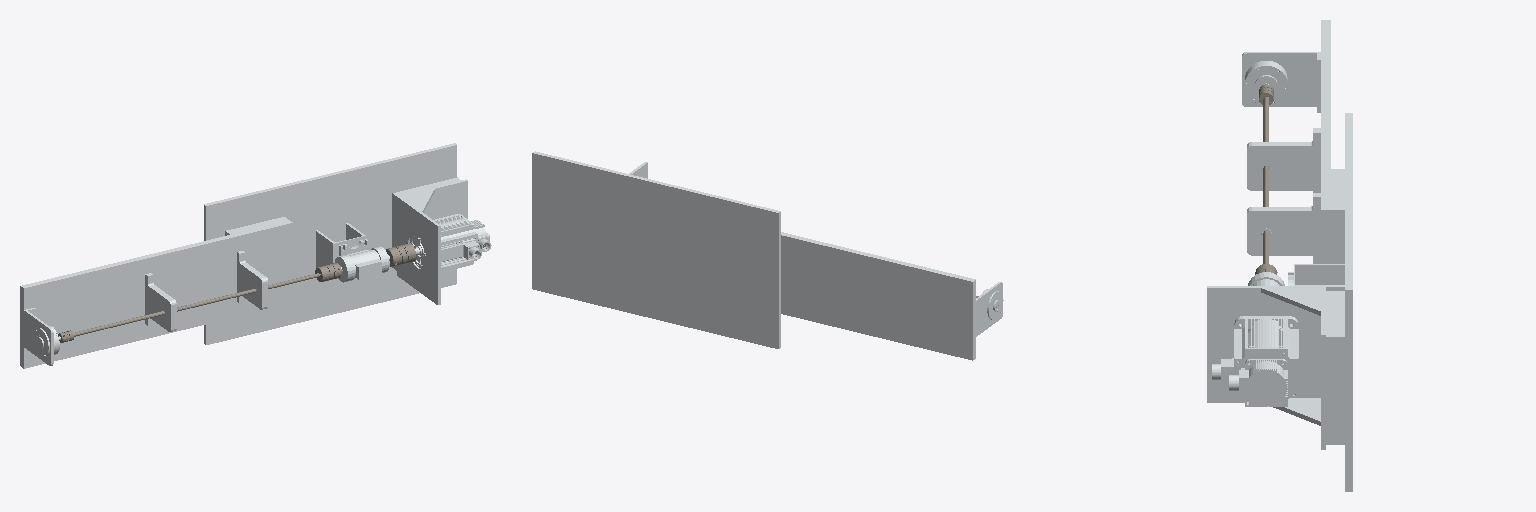
robot.urdf — ship_shaft:
<robot
  name="ship_shaft">
  <gazebo>
    <static>true</static>
  </gazebo>
  <link
    name="shaft_base">
    <inertial>
      <origin
        xyz="-0.0482124024715684 -2.11997733364886E-08 0.0437837615145441"
        rpy="0 0 0" />
      <mass
        value="107.388668742931" />
      <inertia
        ixx="1.22100761859766"
        ixy="2.35408130593514E-08"
        ixz="-0.213069196033121"
        iyy="6.93483368955367"
        iyz="9.15237828430063E-08"
        izz="7.80996151767761" />
    </inertial>
    <visual>
      <origin
        xyz="0 0 0"
        rpy="0 0 0" />
      <geometry>
        <mesh
          filename="package://inspection_sim/meshes/base_link.STL" />
      </geometry>
      <material
        name="">
        <color
          rgba="0.898039215686275 0.917647058823529 0.929411764705882 1" />
      </material>
    </visual>
    <collision>
      <origin
        xyz="0 0 0"
        rpy="0 0 0" />
      <geometry>
        <mesh
          filename="package://inspection_sim/meshes/base_link.STL" />
      </geometry>
    </collision>
  </link>
  <link
    name="Empty_Link">
    <inertial>
      <origin
        xyz="-1.58611210162585E-05 -2.07330212466383E-05 0.308504147181496"
        rpy="0 0 0" />
      <mass
        value="1.48084133626181" />
      <inertia
        ixx="0.0481596319576275"
        ixy="-1.10330933849115E-07"
        ixz="-6.10810168884322E-08"
        iyy="0.0481594925561947"
        iyz="4.06445617475966E-08"
        izz="0.000266229514042342" />
    </inertial>
    <visual>
      <origin
        xyz="0 0 0"
        rpy="0 0 0" />
      <geometry>
        <mesh
          filename="package://inspection_sim/meshes/Empty_Link.STL" />
      </geometry>
      <material
        name="">
        <color
          rgba="0.647058823529412 0.619607843137255 0.588235294117647 1" />
      </material>
    </visual>
    <collision>
      <origin
        xyz="0 0 0"
        rpy="0 0 0" />
      <geometry>
        <mesh
          filename="package://inspection_sim/meshes/Empty_Link.STL" />
      </geometry>
    </collision>
  </link>
  <joint
    name="joint1"
    type="continuous">
    <origin
      xyz="0 -0.175 0"
      rpy="1.5707963267949 0.603482602756735 -1.5707963267949" />
    <parent
      link="shaft_base" />
    <child
      link="Empty_Link" />
    <axis
      xyz="0 0 1" />
  </joint>
</robot>

--- Render facts (derived) ---
Views: 3 orthographic renders of the robot side by side, from view 1: azimuth 30°, elevation 25°; view 2: azimuth 150°, elevation 25°; view 3: azimuth 270°, elevation 25°.
Robot: ship_shaft — 2 links, 1 joints (1 continuous); root link shaft_base; default pose: every joint at zero.
Visible links, largest first — view 1: shaft_base, Empty_Link; view 2: shaft_base; view 3: shaft_base, Empty_Link.
Link boxes in pixels (box(x1,y1,x2,y2)): shaft_base: box(20, 143, 491, 368); Empty_Link: box(58, 243, 415, 342); shaft_base: box(532, 151, 1003, 360); shaft_base: box(1207, 20, 1352, 491); Empty_Link: box(1255, 84, 1277, 274).
Size in the robot's own frame: 1.51 by 0.295 by 0.45 metres.
2 mesh visuals loaded from 2 distinct referenced files (2 binary STL).
